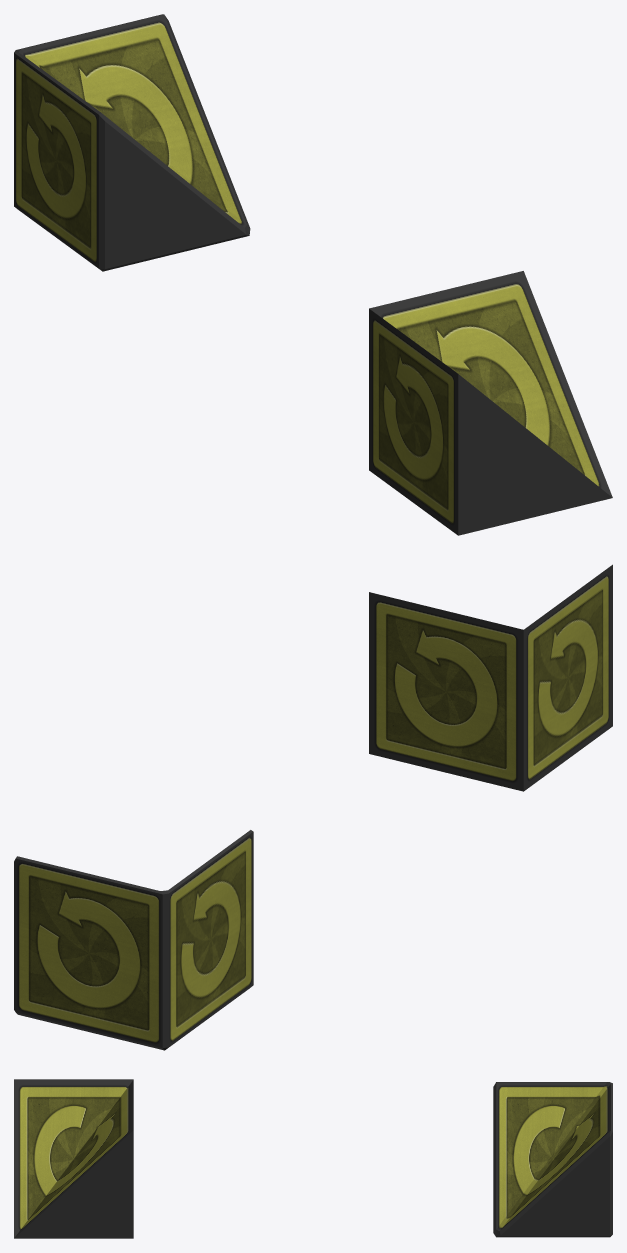
The model's file is slope.insideCorner.1x1.fbx.
3 views of the same model, one above another, from view 1: azimuth 30°, elevation 25°; view 2: azimuth 150°, elevation 25°; view 3: azimuth 270°, elevation 25° (orthographic). The views are drawn at different scales.
Visible parts, largest first — view 1: MESH slope.insideCorner.1x1, MESH slope.insideCorner.1x1.c; view 2: MESH slope.insideCorner.1x1, MESH slope.insideCorner.1x1.c; view 3: MESH slope.insideCorner.1x1, MESH slope.insideCorner.1x1.c.
Part boxes in pixels (x1=…): MESH slope.insideCorner.1x1: x1=369, y1=271, x2=612, y2=535; MESH slope.insideCorner.1x1.c: x1=14, y1=14, x2=250, y2=271; MESH slope.insideCorner.1x1: x1=369, y1=564, x2=612, y2=791; MESH slope.insideCorner.1x1.c: x1=14, y1=830, x2=253, y2=1050; MESH slope.insideCorner.1x1: x1=14, y1=1079, x2=133, y2=1238; MESH slope.insideCorner.1x1.c: x1=493, y1=1082, x2=612, y2=1237.
Size of what is drawn, in the model's own units: 100 by 100 by 500.
